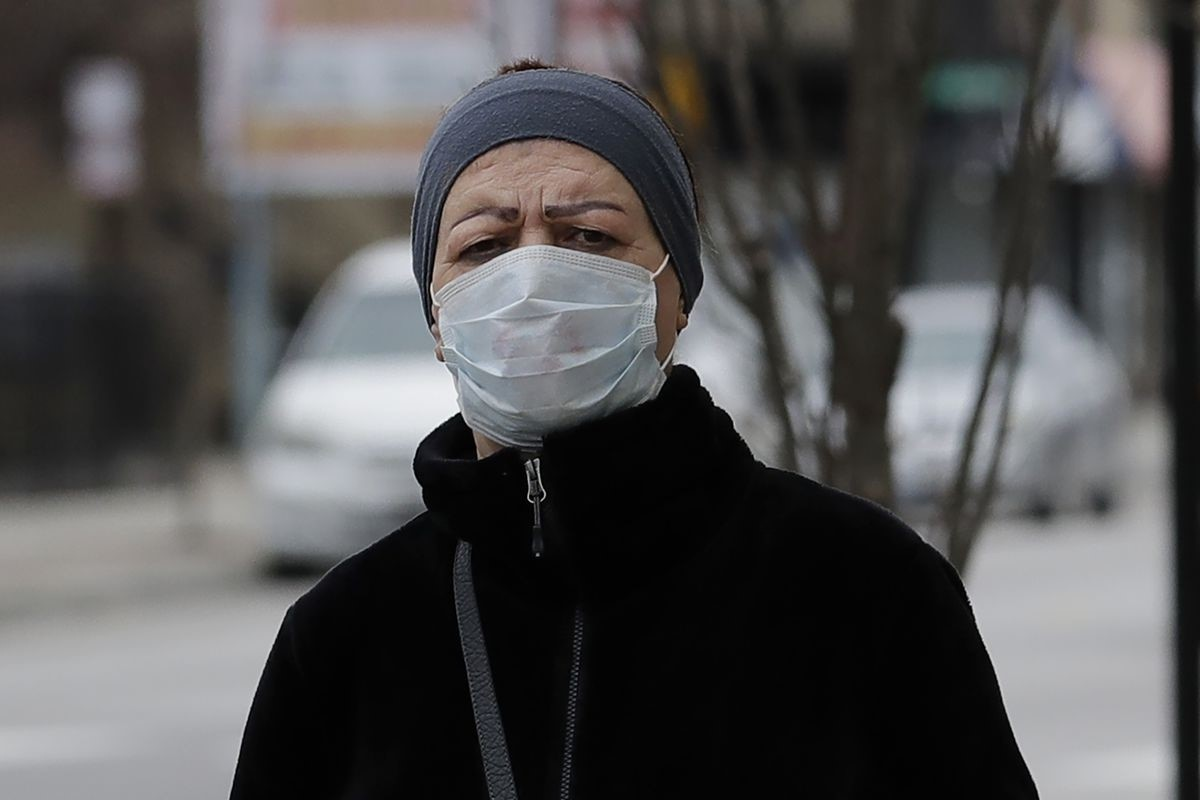face_with_mask: (401, 60, 702, 454)
